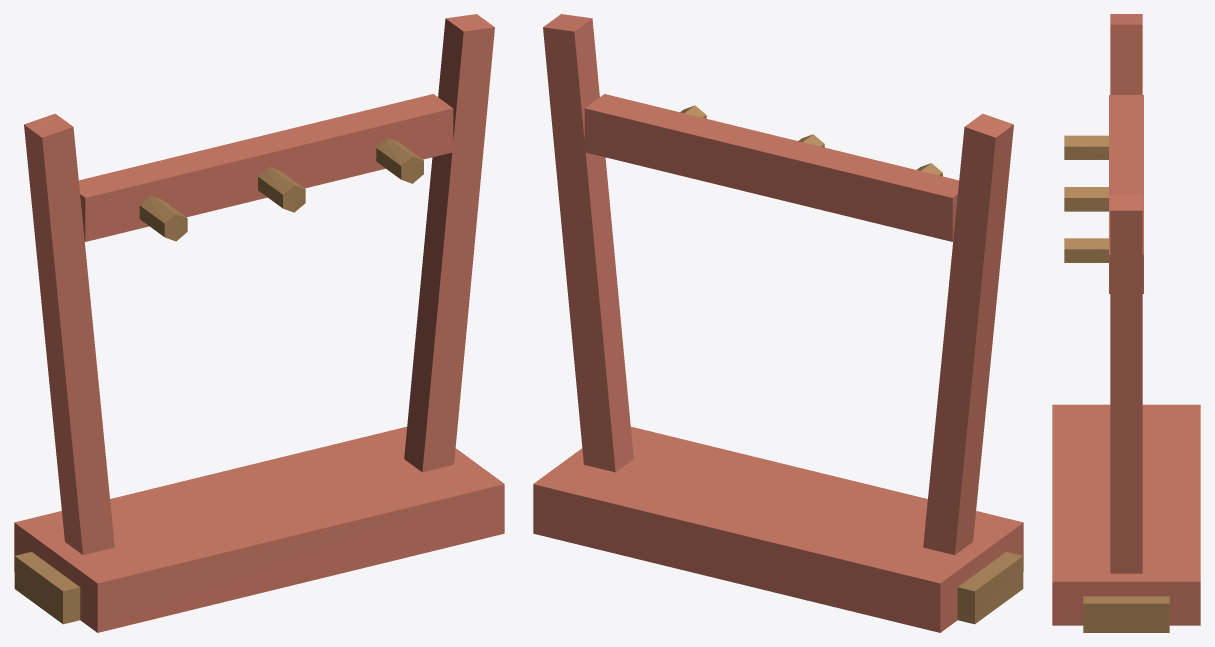
Rendered from Tool-Rack.glb.
The picture shows the model from 3 angles, left to right: view 1: azimuth 30°, elevation 25°; view 2: azimuth 150°, elevation 25°; view 3: azimuth 270°, elevation 25°; orthographic projection. The views are drawn at different scales.
Parts seen in each view (by area): view 1: wind-pump-static-tool-rack-weathered-timber, wind-pump-static-tool-rack-dark-brackets; view 2: wind-pump-static-tool-rack-weathered-timber, wind-pump-static-tool-rack-dark-brackets; view 3: wind-pump-static-tool-rack-weathered-timber, wind-pump-static-tool-rack-dark-brackets.
Part boxes in pixels (box(x1,y1,x2,y2)): wind-pump-static-tool-rack-weathered-timber: box(14, 14, 504, 632); wind-pump-static-tool-rack-dark-brackets: box(14, 138, 502, 624); wind-pump-static-tool-rack-weathered-timber: box(533, 14, 1023, 632); wind-pump-static-tool-rack-dark-brackets: box(535, 105, 1023, 624); wind-pump-static-tool-rack-weathered-timber: box(1052, 14, 1200, 625); wind-pump-static-tool-rack-dark-brackets: box(1064, 135, 1169, 632).
Size of the model in its own units: 1.72 by 1.75 by 0.55.
